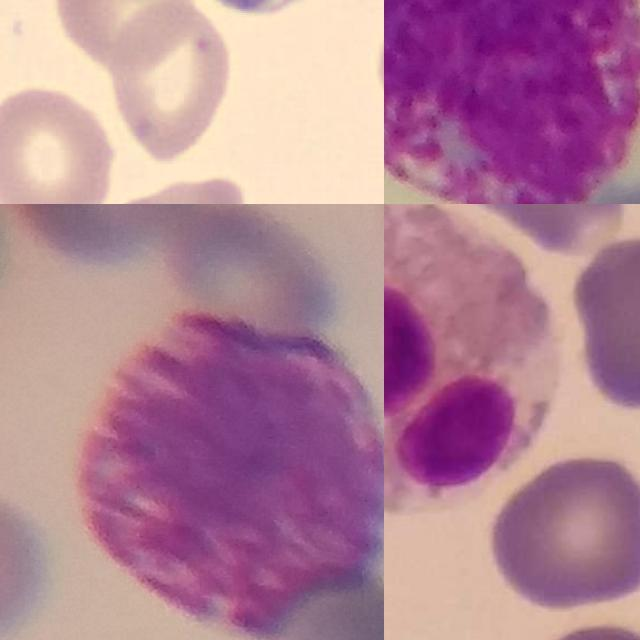Basophil: (72, 309, 384, 636), (384, 0, 640, 204)
Eosinophil: (384, 204, 564, 518)
RBC: (105, 0, 235, 166), (0, 79, 119, 204), (50, 0, 196, 72), (116, 171, 247, 204)
